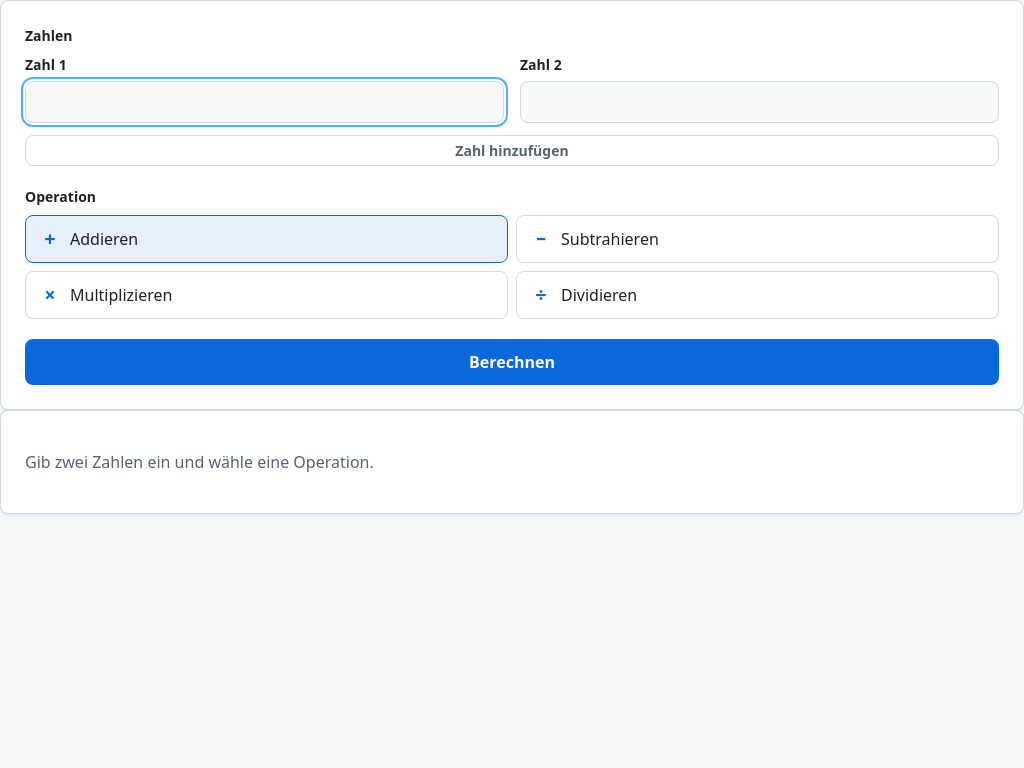
Test case: Calculator › clears a field error once the user edits the field
Type "abc" into the field labelled "Zahl 1" at (264, 102), box [25, 81, 504, 123]
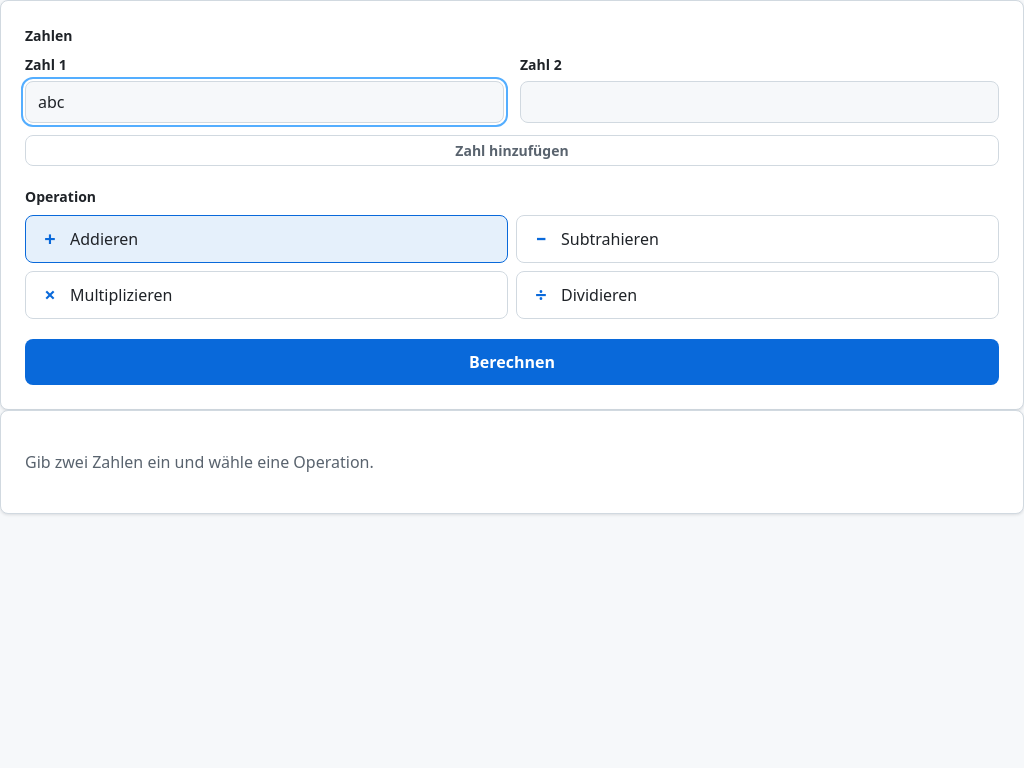
Type "1" into the field labelled "Zahl 2" at (760, 102), box [520, 81, 999, 123]
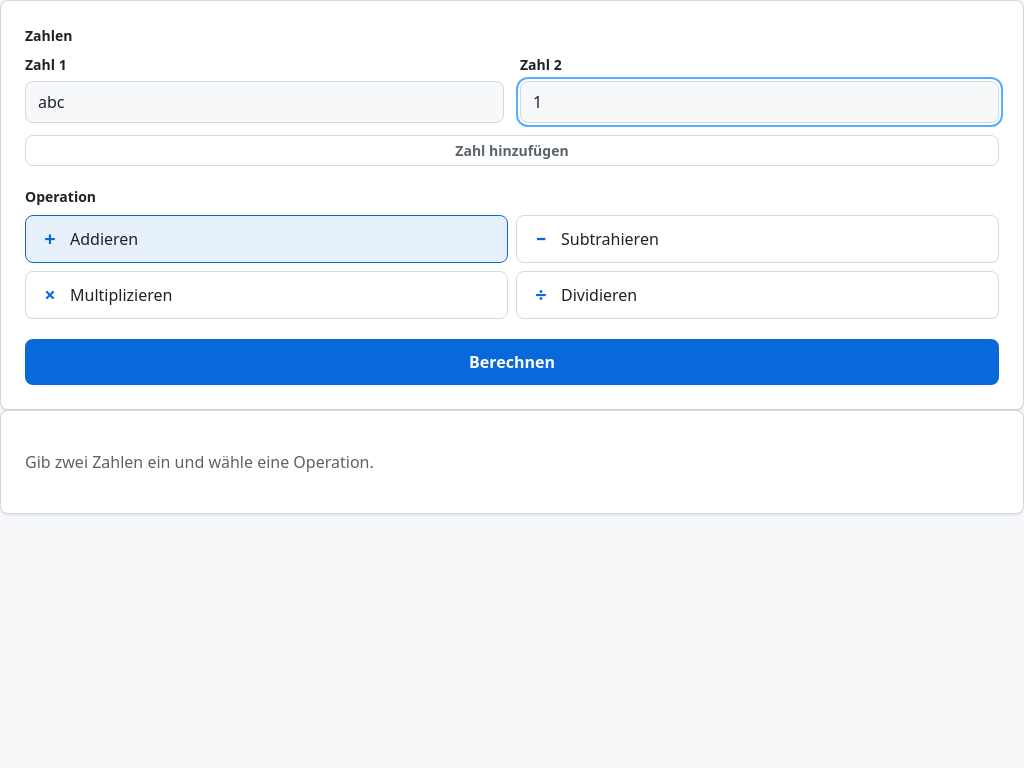
Click the button "Berechnen" at (512, 362), box [25, 339, 999, 385]
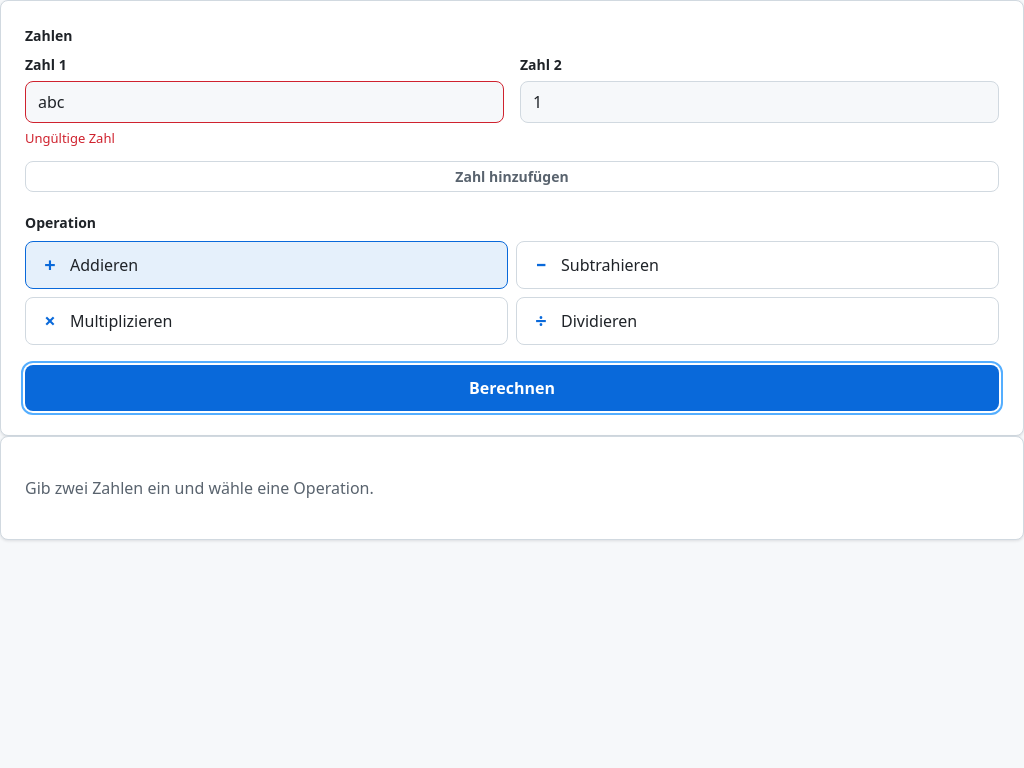
Check: the message reads "Ungültige Zahl", box [25, 129, 115, 147]
Type "1" into the field labelled "Zahl 1" at (264, 102), box [25, 81, 504, 123]
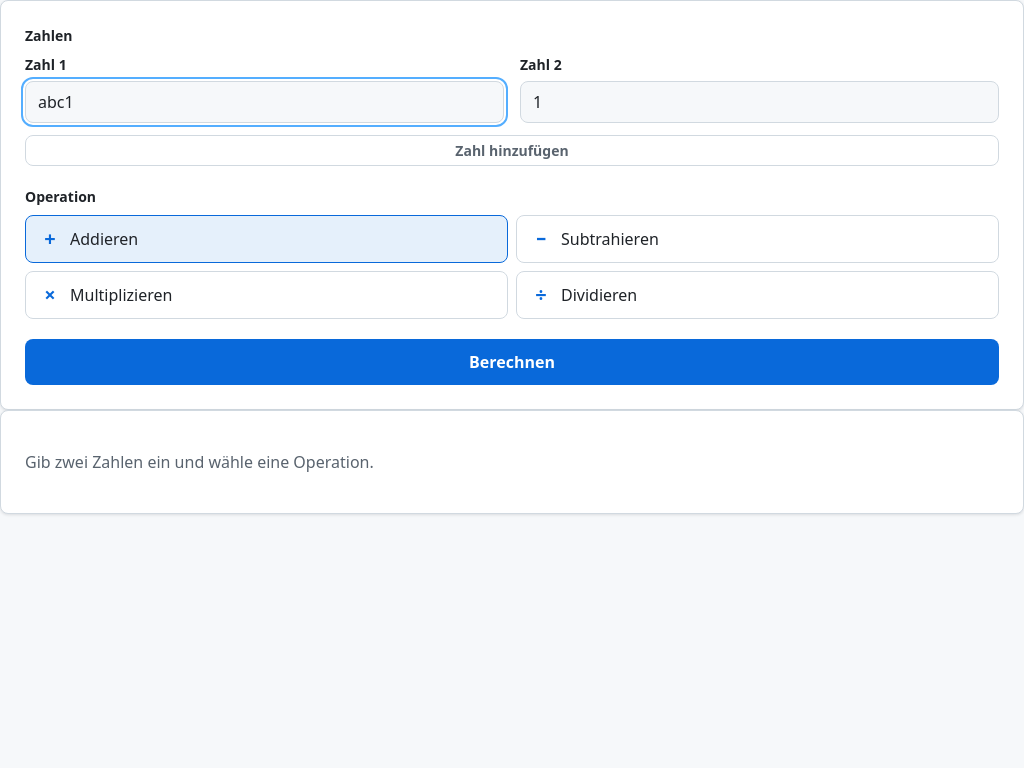
Check: the message "Ungültige Zahl" is gone
